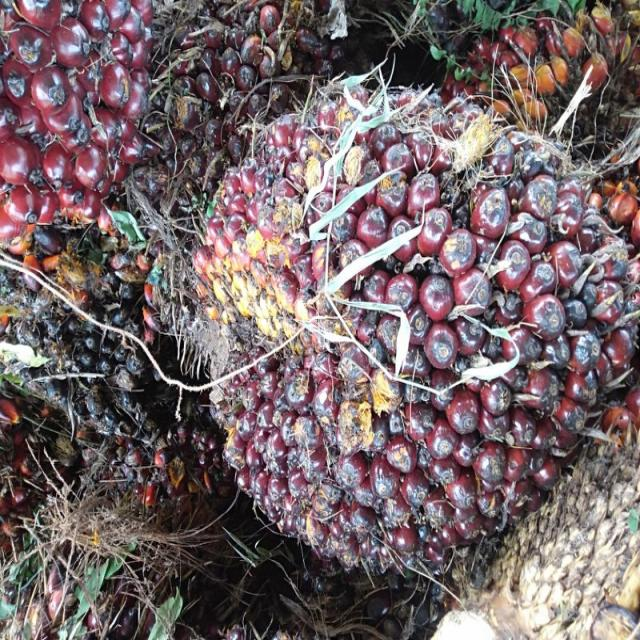fraksi 1: (201, 76, 634, 576)
